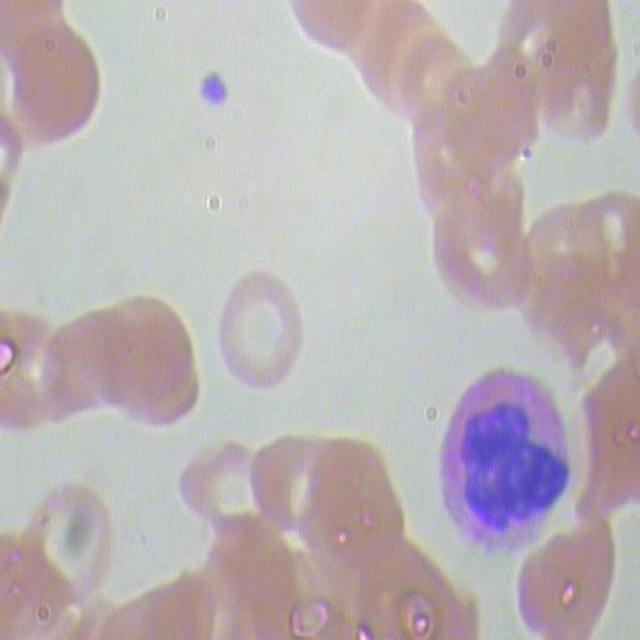Platelets: (194, 69, 233, 112)
RBC: (91, 285, 205, 435), (297, 427, 412, 572), (422, 189, 536, 320), (2, 27, 116, 156), (13, 484, 127, 613), (510, 512, 625, 639), (210, 265, 312, 399), (176, 441, 267, 548)
WBC: (433, 365, 582, 567)
